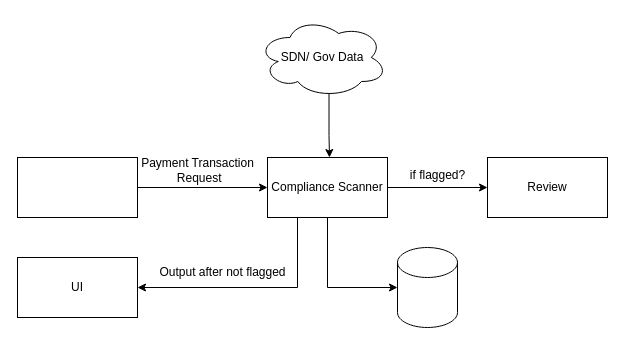
This 625x345 diagram has some shape labels left out. The shapes that lost their labels are listed below. From the top down, each one's box as (x1, y1, x2, y2) in pixels, then its label:
(16, 156, 138, 218): Payment Galaxy
(396, 246, 458, 328): MySQL DB
